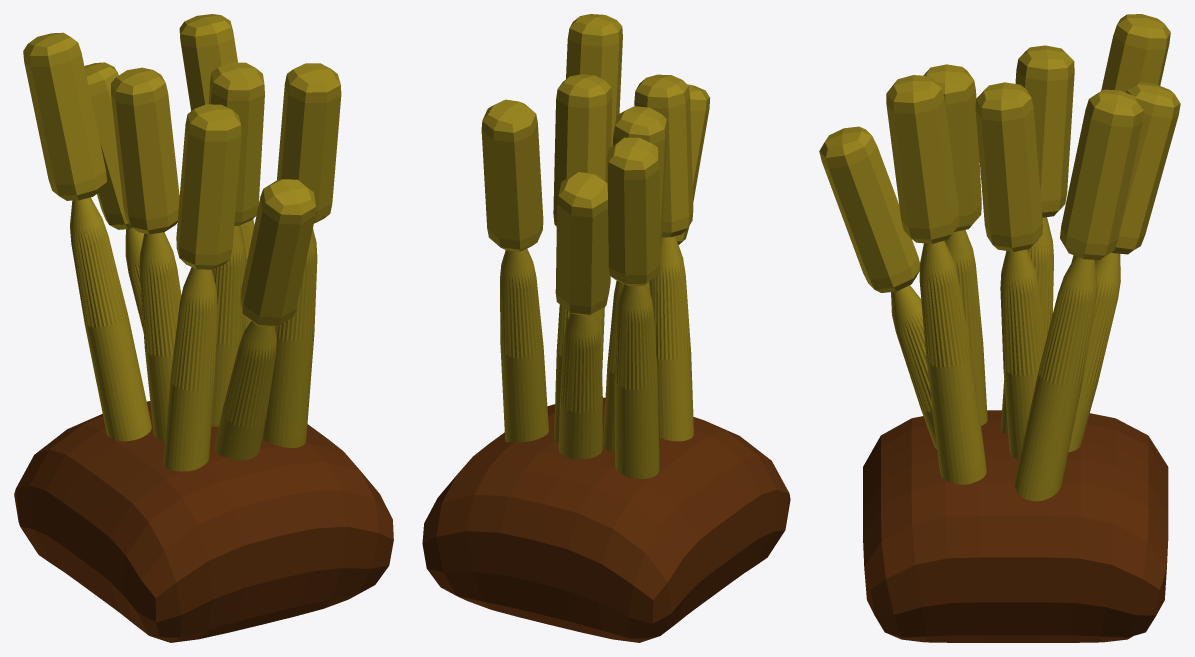
File: Barley.fbx
The picture shows the model from 3 angles, left to right: view 1: azimuth 30°, elevation 25°; view 2: azimuth 150°, elevation 25°; view 3: azimuth 270°, elevation 25°; orthographic projection. The views are drawn at different scales.
Visible parts, largest first — view 1: dirt.001, Barley.008, Barley, Barley.005, Barley.004, Barley.001, Barley.006, Barley.003, Barley.002; view 2: dirt.001, Barley.002, Barley.008, Barley.003, Barley, Barley.006, Barley.001, Barley.005, Barley.004; view 3: dirt.001, Barley.002, Barley.001, Barley.006, Barley.004, Barley.003, Barley.005, Barley, Barley.008.
Part boxes in pixels (x1,y1,x2,y2): dirt.001: [14, 401, 393, 642]; Barley.008: [23, 32, 151, 441]; Barley: [163, 104, 241, 471]; Barley.005: [111, 67, 181, 440]; Barley.004: [214, 179, 315, 459]; Barley.001: [262, 63, 341, 447]; Barley.006: [208, 62, 264, 426]; Barley.003: [84, 62, 144, 331]; Barley.002: [179, 14, 254, 329]; dirt.001: [422, 397, 790, 642]; Barley.002: [481, 99, 548, 442]; Barley.008: [607, 137, 660, 478]; Barley.003: [555, 172, 610, 459]; Barley: [634, 74, 693, 441]; Barley.006: [553, 74, 612, 442]; Barley.001: [566, 14, 622, 376]; Barley.005: [603, 106, 667, 452]; Barley.004: [675, 84, 710, 244]; dirt.001: [863, 410, 1168, 642]; Barley.002: [1014, 89, 1143, 501]; Barley.001: [886, 75, 986, 484]; Barley.006: [975, 82, 1045, 459]; Barley.004: [819, 126, 937, 449]; Barley.003: [1068, 82, 1180, 452]; Barley.005: [1000, 45, 1074, 435]; Barley: [923, 64, 987, 425]; Barley.008: [1071, 14, 1170, 262].
Size of the model in its own units: 200 by 404 by 241.
